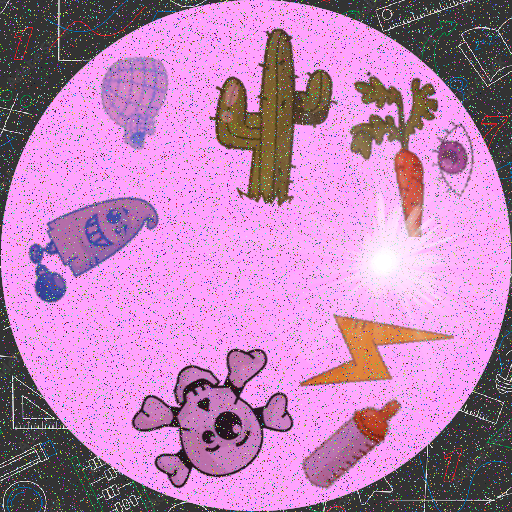bottle_icon: (292, 381, 415, 504)
cactus_icon: (175, 26, 362, 213)
carrot_icon: (323, 61, 499, 237)
eye_icon: (418, 122, 493, 197)
ghost_icon: (15, 166, 168, 319)
igloo_icon: (89, 55, 186, 152)
lightning_icon: (296, 274, 456, 434)
skull_icon: (122, 333, 301, 512)
